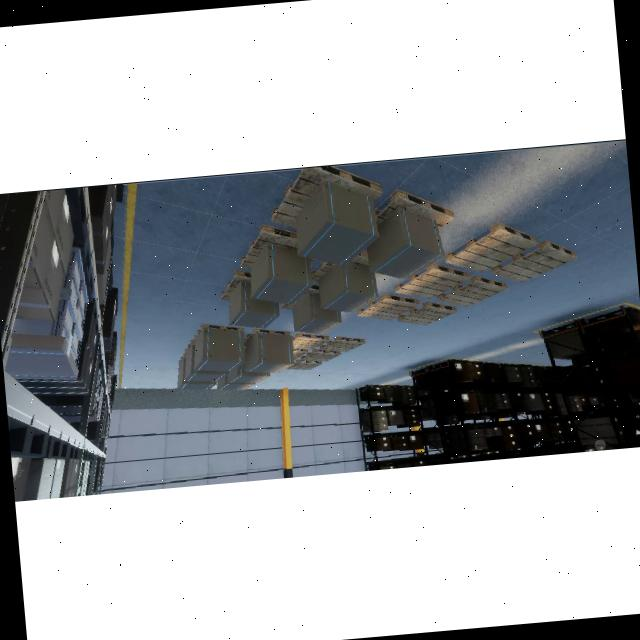wooden_pallet: (270, 165, 382, 228), (444, 223, 537, 272), (491, 240, 576, 283), (375, 190, 455, 230), (393, 264, 469, 299), (239, 224, 296, 269), (436, 275, 508, 306), (357, 294, 420, 320), (398, 302, 457, 326), (220, 269, 250, 301), (319, 336, 365, 351), (292, 333, 329, 348)
